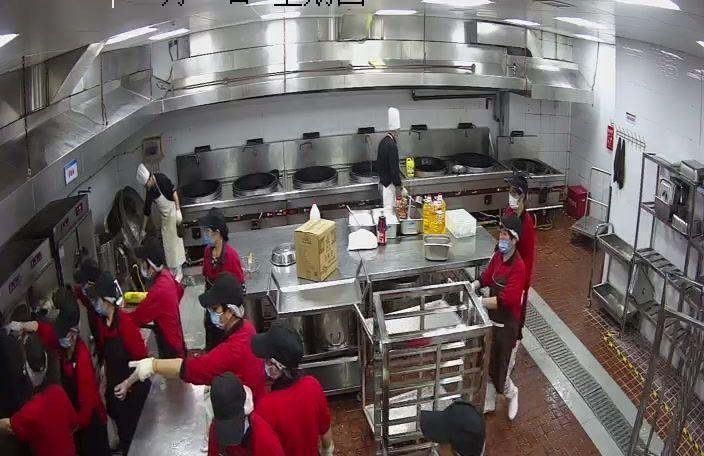apron: (126, 352, 159, 382), (175, 209, 186, 224)
mask: (203, 310, 226, 332), (201, 232, 221, 252), (492, 236, 512, 256), (505, 192, 521, 212), (90, 299, 108, 315), (60, 335, 75, 349)
no_apron: (112, 375, 131, 405)
